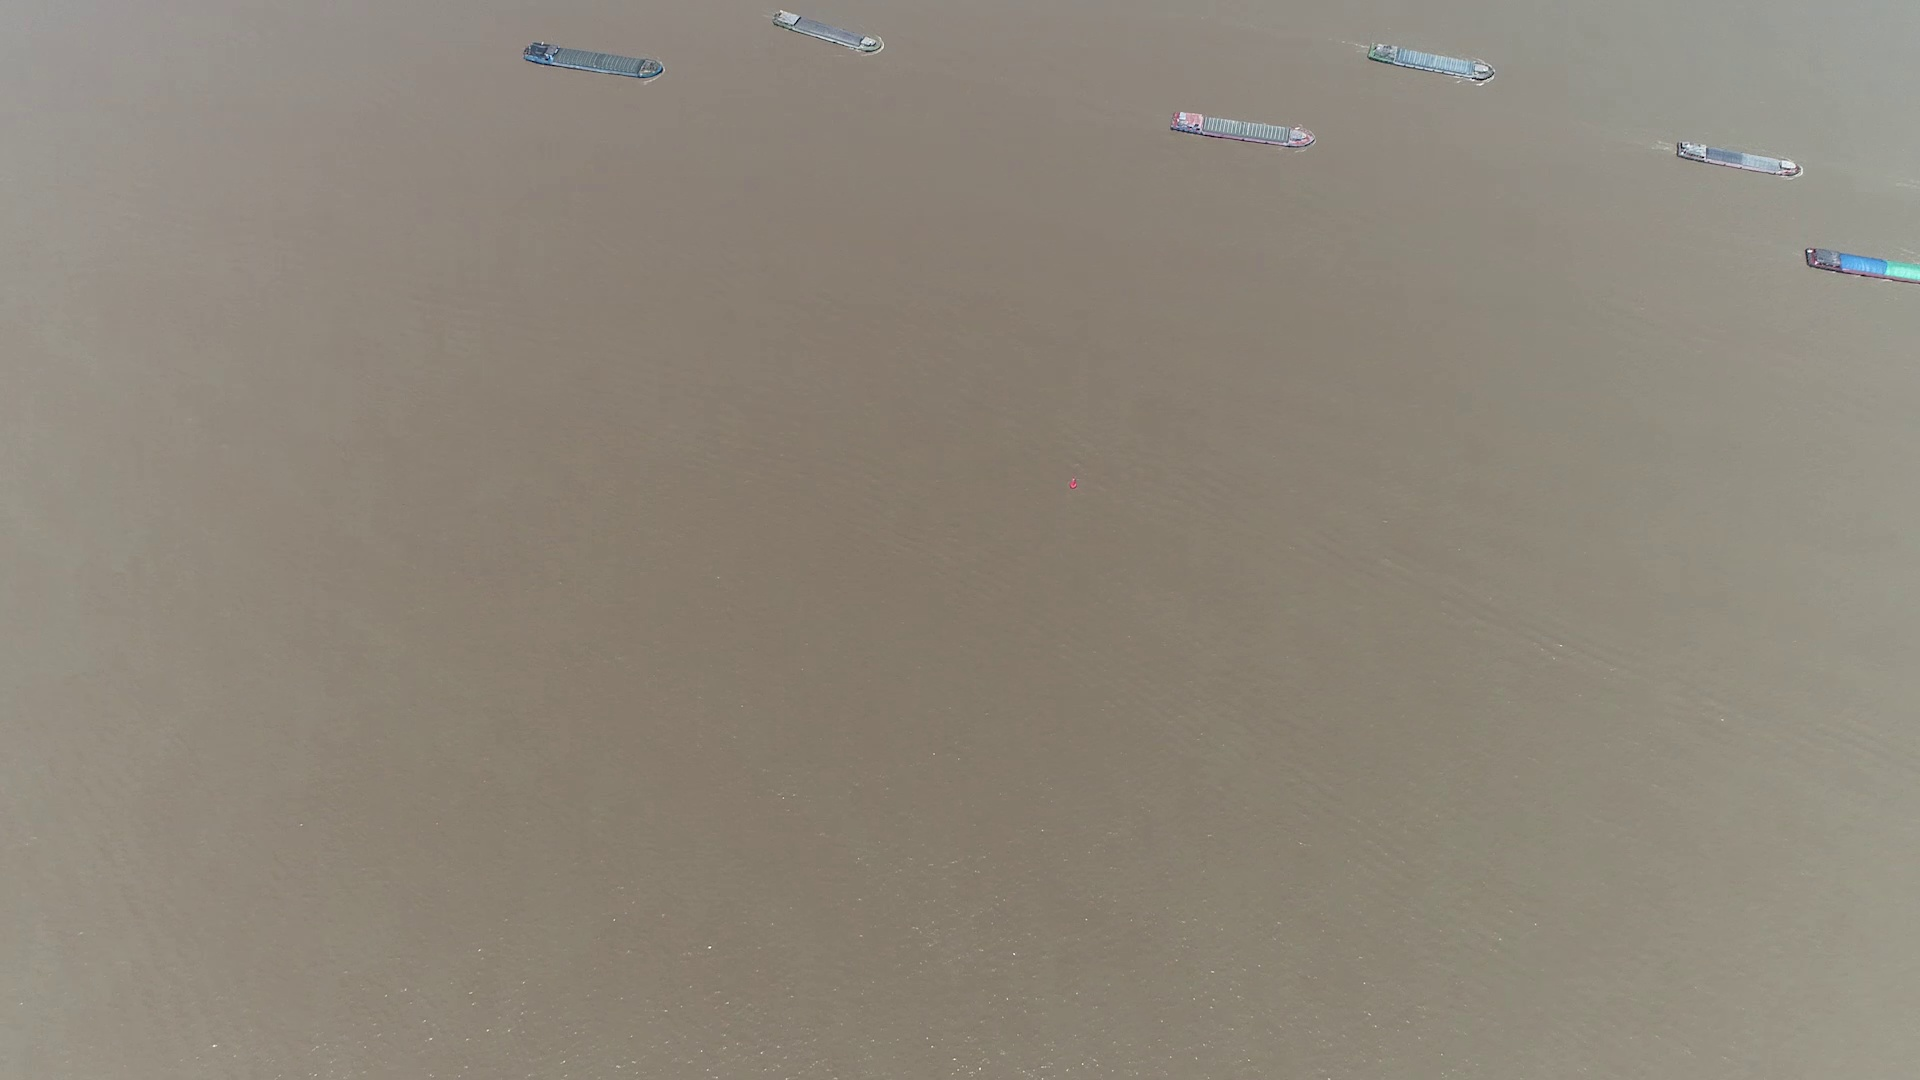ship: (1168, 109, 1317, 149), (1366, 40, 1495, 83), (524, 41, 665, 80), (770, 15, 885, 57), (1675, 138, 1803, 175), (1804, 247, 1919, 284)
